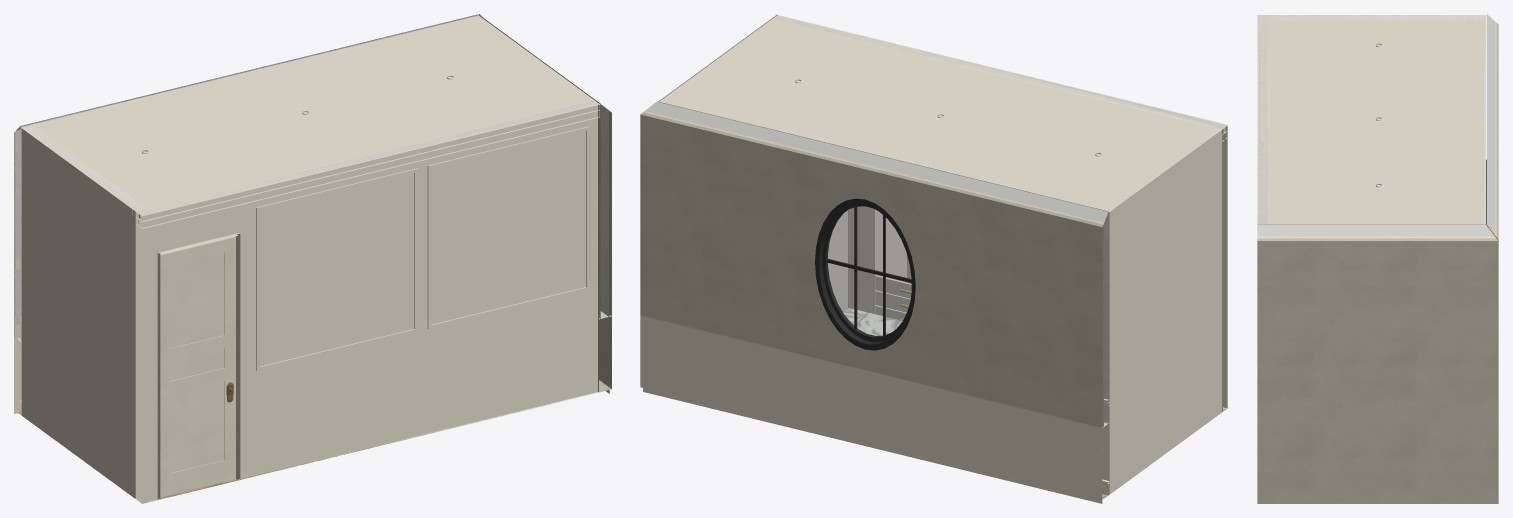
File: primary-green-closet-04acd42066f7.glb
3 views of the same model, side by side, from view 1: azimuth 30°, elevation 25°; view 2: azimuth 150°, elevation 25°; view 3: azimuth 270°, elevation 25° (orthographic). The views are drawn at different scales.
Parts seen in each view (by area): view 1: primary-green-closet-21ac2ed1b4475155, primary-green-closet-9d91b47435c6fb33, primary-green-closet-95b94d4b81cfb474, primary-green-closet-b7a870a0f6b43c8c, primary-green-closet-8e484a943eae90b2, primary-green-closet-c5fd04e49693d8cd, primary-green-closet-780708765654f3c3, primary-green-closet-91eb0f90e9e94d87, primary-green-closet-30f9d475162e2dd8, primary-green-closet-08e5178be0cf1e43, primary-green-closet-3a163573517a0810, primary-green-closet-92b1a6021e7b5e29 (+2 smaller); view 2: primary-green-closet-3763e2fb8578d282, primary-green-closet-9d91b47435c6fb33, primary-green-closet-3a806c711886e947, primary-green-closet-95b94d4b81cfb474, primary-green-closet-a35a5dd7ba934f7b, primary-green-closet-91eb0f90e9e94d87, primary-green-closet-f386269db15356c9, primary-green-closet-21ac2ed1b4475155, primary-green-closet-2575515a05775d9e, primary-green-closet-feba501210e42be9, primary-green-closet-ddb0cf611f7c1133, primary-green-closet-9e752e60c4602503 (+2 smaller); view 3: primary-green-closet-adb6f49a6d2cbec3, primary-green-closet-9d91b47435c6fb33, primary-green-closet-16d9002bc6318568, primary-green-closet-791abe15be22adf2, primary-green-closet-91eb0f90e9e94d87, primary-green-closet-21ac2ed1b4475155, primary-green-closet-3a163573517a0810, primary-green-closet-92b1a6021e7b5e29, primary-green-closet-95b94d4b81cfb474, primary-green-closet-2575515a05775d9e, primary-green-closet-30f9d475162e2dd8, primary-green-closet-3763e2fb8578d282 (+5 smaller).
Part boxes in pixels (x1=…): primary-green-closet-21ac2ed1b4475155: x1=136, y1=101, x2=598, y2=503; primary-green-closet-9d91b47435c6fb33: x1=21, y1=15, x2=600, y2=216; primary-green-closet-95b94d4b81cfb474: x1=21, y1=126, x2=145, y2=498; primary-green-closet-b7a870a0f6b43c8c: x1=160, y1=236, x2=235, y2=497; primary-green-closet-8e484a943eae90b2: x1=427, y1=126, x2=589, y2=329; primary-green-closet-c5fd04e49693d8cd: x1=256, y1=168, x2=417, y2=370; primary-green-closet-780708765654f3c3: x1=157, y1=233, x2=240, y2=499; primary-green-closet-91eb0f90e9e94d87: x1=15, y1=14, x2=478, y2=341; primary-green-closet-30f9d475162e2dd8: x1=600, y1=104, x2=609, y2=316; primary-green-closet-08e5178be0cf1e43: x1=141, y1=104, x2=600, y2=228; primary-green-closet-3a163573517a0810: x1=132, y1=98, x2=592, y2=224; primary-green-closet-92b1a6021e7b5e29: x1=148, y1=111, x2=562, y2=211; primary-green-closet-3763e2fb8578d282: x1=642, y1=112, x2=1103, y2=427; primary-green-closet-9d91b47435c6fb33: x1=658, y1=14, x2=1226, y2=212; primary-green-closet-3a806c711886e947: x1=640, y1=315, x2=1109, y2=499; primary-green-closet-95b94d4b81cfb474: x1=1103, y1=128, x2=1221, y2=494; primary-green-closet-a35a5dd7ba934f7b: x1=815, y1=198, x2=915, y2=350; primary-green-closet-91eb0f90e9e94d87: x1=653, y1=102, x2=1108, y2=426; primary-green-closet-f386269db15356c9: x1=848, y1=206, x2=911, y2=320; primary-green-closet-21ac2ed1b4475155: x1=774, y1=15, x2=1227, y2=412; primary-green-closet-2575515a05775d9e: x1=643, y1=388, x2=1225, y2=503; primary-green-closet-feba501210e42be9: x1=828, y1=210, x2=847, y2=312; primary-green-closet-ddb0cf611f7c1133: x1=644, y1=111, x2=1103, y2=426; primary-green-closet-9e752e60c4602503: x1=843, y1=307, x2=902, y2=335; primary-green-closet-adb6f49a6d2cbec3: x1=1257, y1=237, x2=1498, y2=432; primary-green-closet-9d91b47435c6fb33: x1=1257, y1=15, x2=1486, y2=224; primary-green-closet-16d9002bc6318568: x1=1257, y1=432, x2=1498, y2=501; primary-green-closet-791abe15be22adf2: x1=1257, y1=224, x2=1495, y2=236; primary-green-closet-91eb0f90e9e94d87: x1=1486, y1=14, x2=1495, y2=231; primary-green-closet-21ac2ed1b4475155: x1=1257, y1=15, x2=1269, y2=224; primary-green-closet-3a163573517a0810: x1=1268, y1=15, x2=1275, y2=224; primary-green-closet-92b1a6021e7b5e29: x1=1260, y1=20, x2=1268, y2=224; primary-green-closet-95b94d4b81cfb474: x1=1269, y1=15, x2=1484, y2=20; primary-green-closet-2575515a05775d9e: x1=1257, y1=501, x2=1498, y2=503; primary-green-closet-30f9d475162e2dd8: x1=1257, y1=236, x2=1496, y2=238; primary-green-closet-3763e2fb8578d282: x1=1496, y1=23, x2=1498, y2=238.
Size of the model in its own units: 4.95 by 2.95 by 2.34.
Materials: 23 (5 with a texture image).
